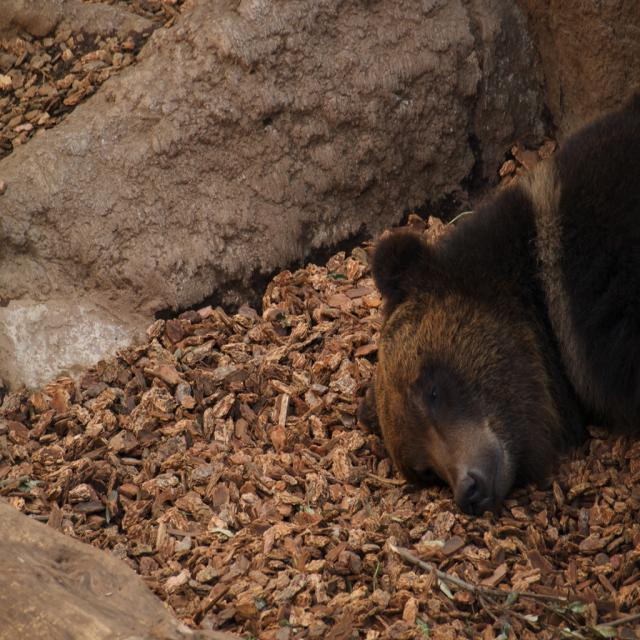Cheetahs: (353, 87, 639, 513)
